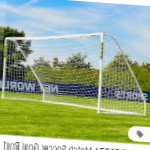goals: (1, 32, 148, 116)
